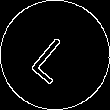L_NE: (27, 26, 83, 84)
